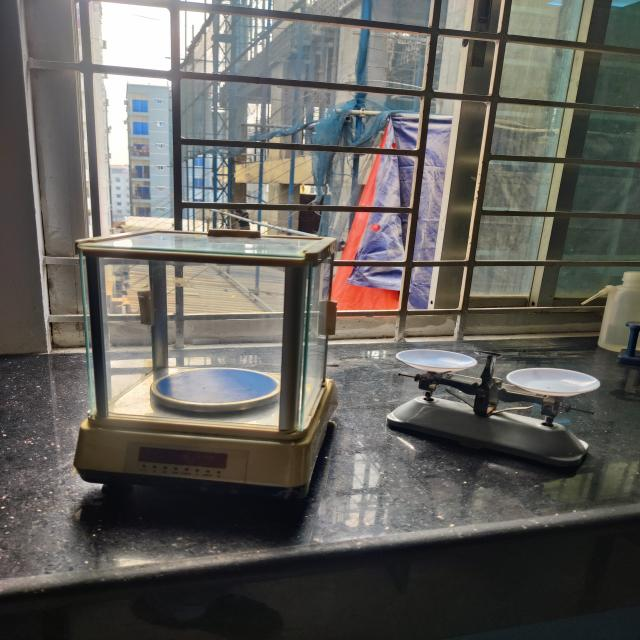Mechanical_Balance_Scale: (373, 312, 620, 498)
Precision_Weight_Scale: (28, 210, 364, 527)
